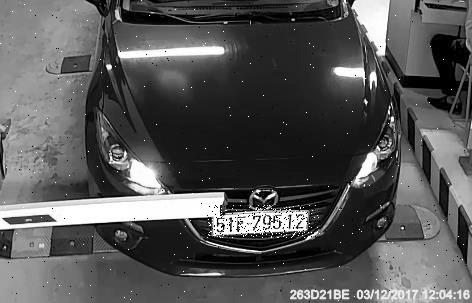License-plate: (209, 206, 322, 239)
